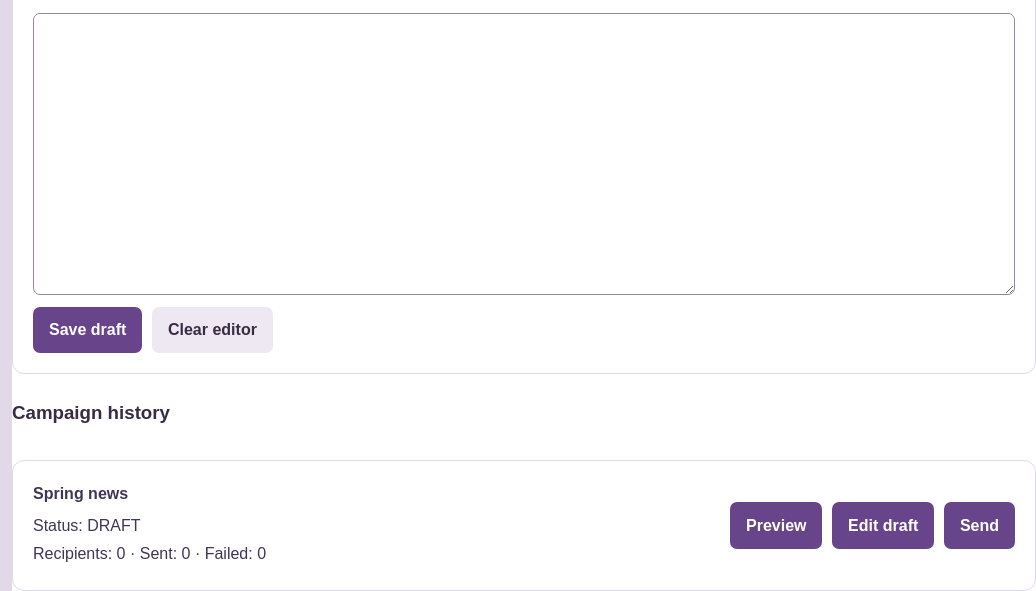
Test: AdminNewsletter › shows a preview with the number of active recipients
(page scrolled)
Click the button "Preview". click: (776, 525)
box: [730, 502, 822, 549]
(page scrolled)
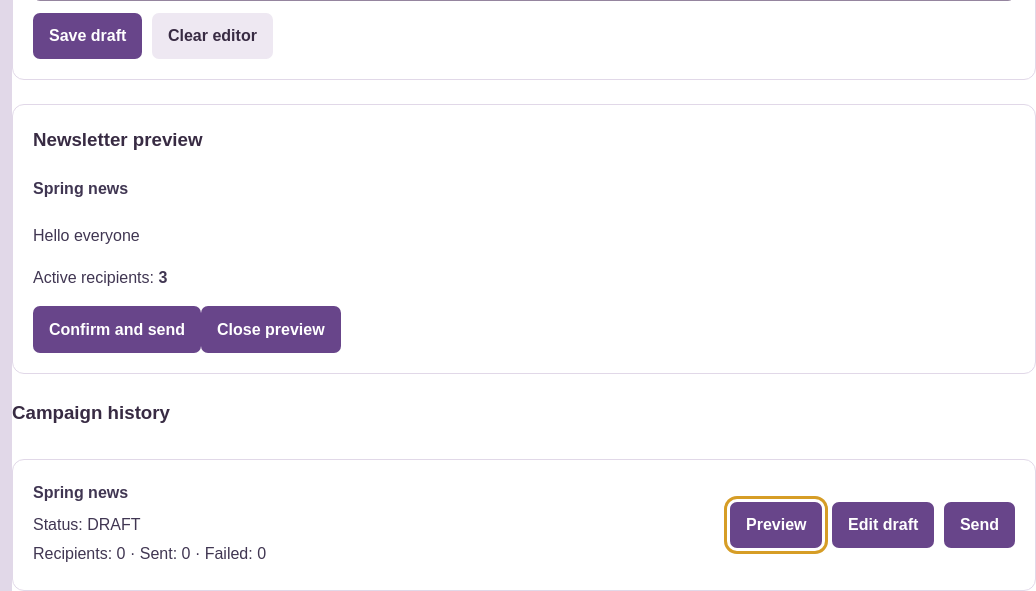
Check: the heading "Newsletter preview" is shown, box [33, 129, 202, 150]
Click the button "Close preview". click: (271, 330)
box: [201, 306, 341, 353]
(page scrolled)
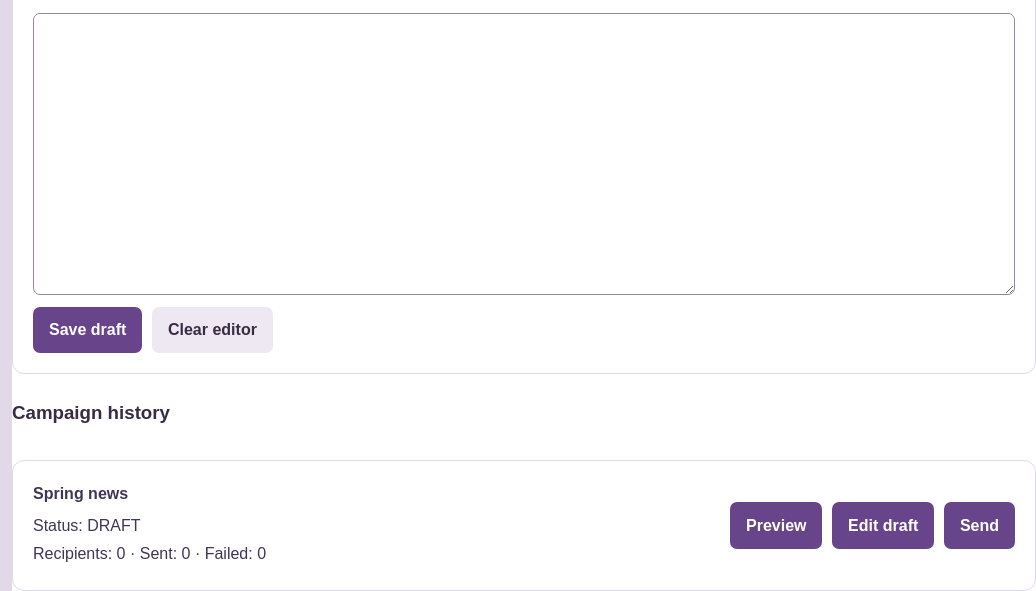
Check: the heading "Newsletter preview" is gone
